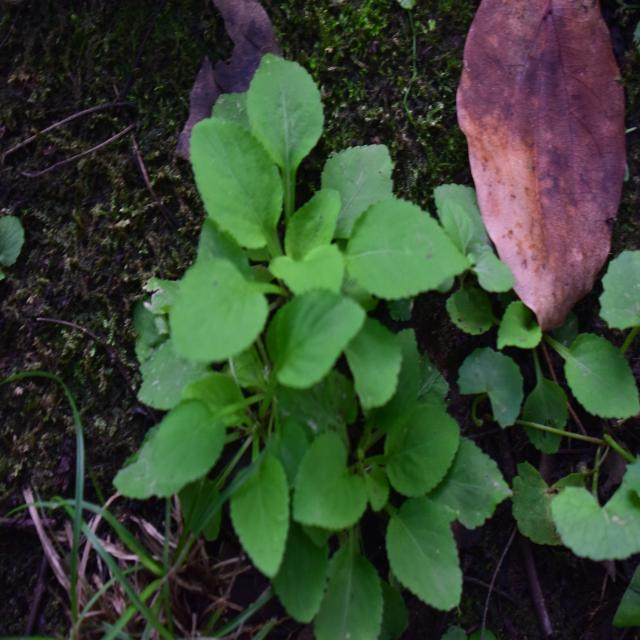Viola: (161, 64, 461, 430), (304, 366, 485, 605)
